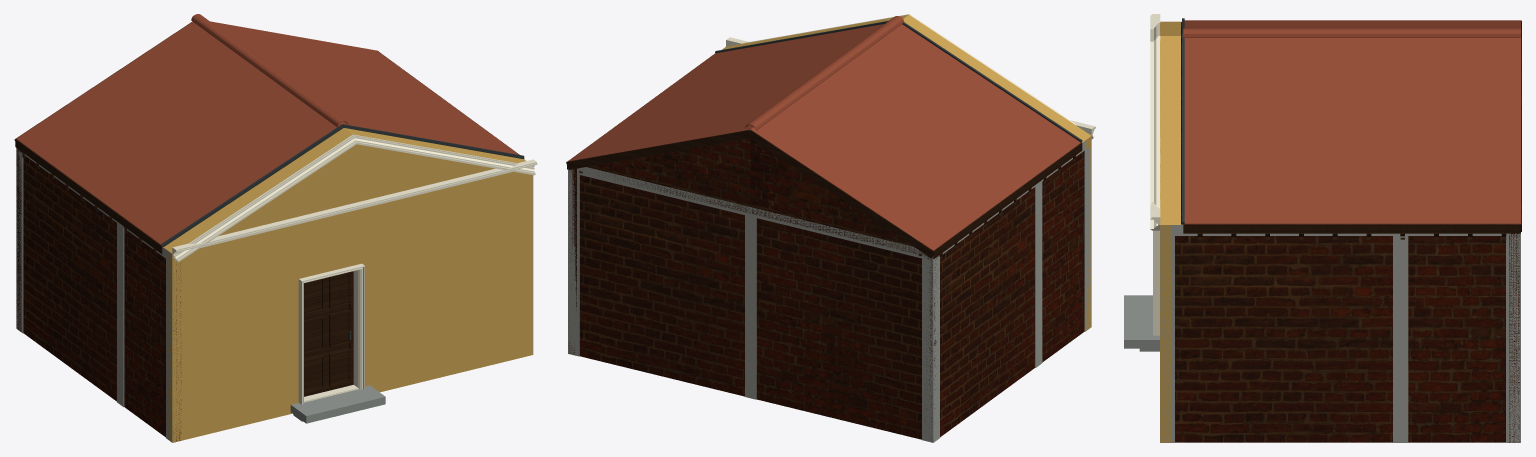
The model's file is building.glb.
3 renders of one model, left to right at view 1: azimuth 30°, elevation 25°; view 2: azimuth 150°, elevation 25°; view 3: azimuth 270°, elevation 25°, orthographic. The views are drawn at different scales.
Visible parts, largest first — view 1: house:0/edge0/z0/house:0/edge0/z0/wall_0_0, house:0/edge3/z0/house:0/edge3/z0/wall_0_0, crown/fronton/crown_body#0001, crown/fronton/crown_moulding#0001, crown/fronton/crown_base_cornice#0001, site/entrance/0/entrance_step#0002, house:0/edge3/z0/house:0/edge3/z0/column_2_0, house:0/edge3/z0/house:0/edge3/z0/column_0_0, roof_assembly/cubierta/roof_fascia#0002, house:0/edge3/z0/house:0/edge3/z0/column_1_0, house:0/edge0/z0/opening_u2.80_v0.12/door_panel_back#0001, roof_assembly/cubierta/roof_crown_flashing#0001 (+12 smaller); view 2: house:0/edge2/z0/house:0/edge2/z0/wall_0_0, house:0/edge3/z0/house:0/edge3/z0/wall_0_0, roof_assembly/cubierta/roof_gable_closure#0001, roof_assembly/cubierta/roof_gable_closure#0004, house:0/edge2/z0/house:0/edge2/z0/beam_0_0, house:0/edge2/z0/house:0/edge2/z0/column_1_0, house:0/edge2/z0/house:0/edge2/z0/column_2_0, crown/fronton/crown_body#0001, house:0/edge2/z0/house:0/edge2/z0/column_0_0, roof_assembly/cubierta/roof_fascia#0001, roof_assembly/cubierta/roof_fascia#0003, house:0/edge3/z0/house:0/edge3/z0/column_2_0 (+9 smaller); view 3: house:0/edge1/z0/house:0/edge1/z0/wall_0_0, crown/fronton/crown_body#0001, roof_assembly/cubierta/roof_fascia#0004, house:0/edge1/z0/house:0/edge1/z0/column_2_0, house:0/edge1/z0/house:0/edge1/z0/column_1_0, house:0/edge0/z0/house:0/edge0/z0/wall_0_0, crown/fronton/crown_moulding#0001, house:0/edge1/z0/house:0/edge1/z0/column_0_0, site/entrance/0/entrance_step#0002, house:0/edge2/z0/house:0/edge2/z0/wall_0_0, house:0/edge1/z0/house:0/edge1/z0/beam_0_0, crown/fronton/crown_rim#0001 (+2 smaller).
Part boxes in pixels (x1,y1,x2,y2): house:0/edge0/z0/house:0/edge0/z0/wall_0_0: (167,171,533,442); house:0/edge3/z0/house:0/edge3/z0/wall_0_0: (23,156,181,440); crown/fronton/crown_body#0001: (163,128,525,252); crown/fronton/crown_moulding#0001: (172,134,535,261); crown/fronton/crown_base_cornice#0001: (172,159,537,254); site/entrance/0/entrance_step#0002: (290,385,385,423); house:0/edge3/z0/house:0/edge3/z0/column_2_0: (117,223,124,406); house:0/edge3/z0/house:0/edge3/z0/column_0_0: (16,150,23,333); roof_assembly/cubierta/roof_fascia#0002: (15,139,162,253); house:0/edge3/z0/house:0/edge3/z0/column_1_0: (166,259,173,442); house:0/edge0/z0/opening_u2.80_v0.12/door_panel_back#0001: (304,277,348,386); roof_assembly/cubierta/roof_crown_flashing#0001: (161,124,343,246); house:0/edge2/z0/house:0/edge2/z0/wall_0_0: (579,175,938,439); house:0/edge3/z0/house:0/edge3/z0/wall_0_0: (924,151,1084,440); roof_assembly/cubierta/roof_gable_closure#0001: (750,139,926,256); roof_assembly/cubierta/roof_gable_closure#0004: (587,138,750,213); house:0/edge2/z0/house:0/edge2/z0/beam_0_0: (568,167,933,260); house:0/edge2/z0/house:0/edge2/z0/column_1_0: (922,258,933,442); house:0/edge2/z0/house:0/edge2/z0/column_2_0: (745,215,756,399); crown/fronton/crown_body#0001: (722,15,1090,142); house:0/edge2/z0/house:0/edge2/z0/column_0_0: (568,172,579,356); roof_assembly/cubierta/roof_fascia#0001: (749,131,934,258); roof_assembly/cubierta/roof_fascia#0003: (566,130,750,169); house:0/edge3/z0/house:0/edge3/z0/column_2_0: (1035,182,1042,367); house:0/edge1/z0/house:0/edge1/z0/wall_0_0: (1175,220,1505,442); crown/fronton/crown_body#0001: (1163,21,1180,224); roof_assembly/cubierta/roof_fascia#0004: (1183,224,1520,233); house:0/edge1/z0/house:0/edge1/z0/column_2_0: (1393,236,1408,442); house:0/edge1/z0/house:0/edge1/z0/column_1_0: (1506,236,1520,442); house:0/edge0/z0/house:0/edge0/z0/wall_0_0: (1160,225,1171,442); crown/fronton/crown_moulding#0001: (1150,23,1160,230); house:0/edge1/z0/house:0/edge1/z0/column_0_0: (1160,236,1174,442); site/entrance/0/entrance_step#0002: (1124,295,1159,348); house:0/edge2/z0/house:0/edge2/z0/wall_0_0: (1509,233,1519,442); house:0/edge1/z0/house:0/edge1/z0/beam_0_0: (1160,224,1520,235); crown/fronton/crown_rim#0001: (1160,21,1163,224).
Size of the model in its own units: 8.06 by 5.76 by 6.62.
Materials: 9 (2 with a texture image).
